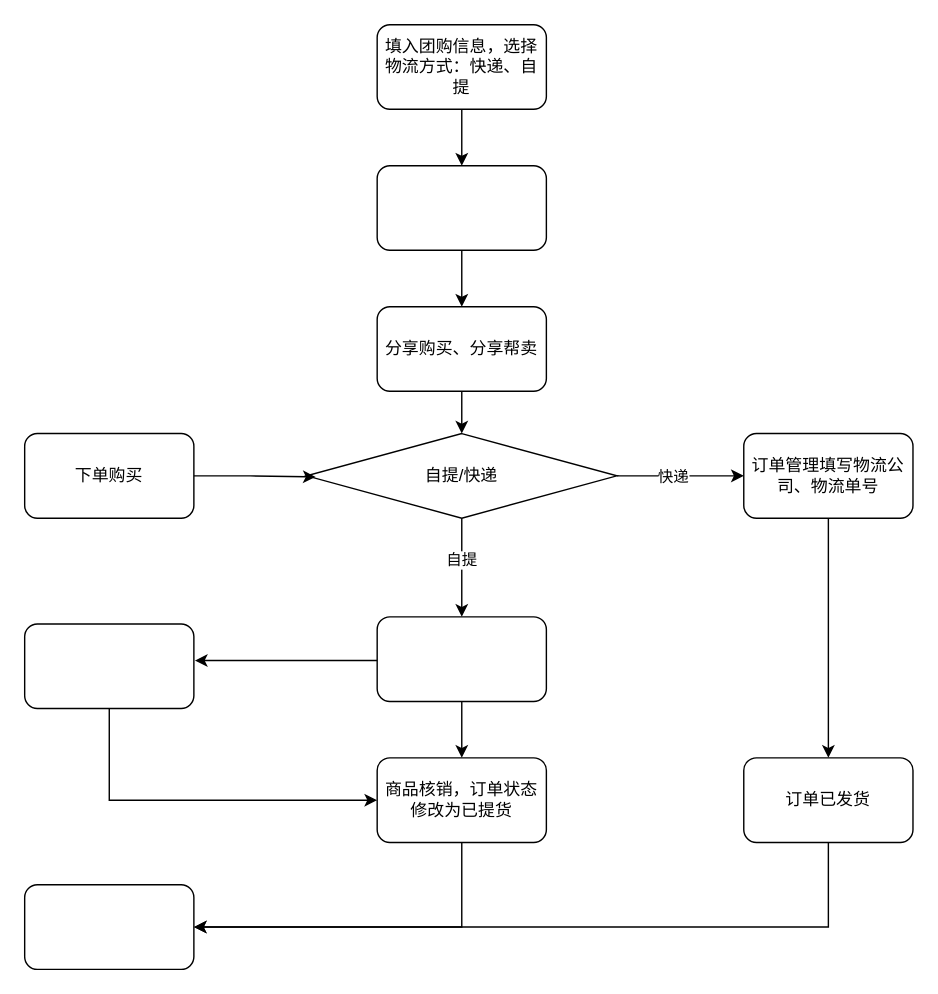
This 938x994 diagram has some shape labels left out. The centre of each missing label's shape, as x and y in pixels:
"去自提，获取核销码" belongs at point 108,666.
"发布团购" belongs at point 461,207.
"订单发货，生成核销码" belongs at point 461,658.
"订单已收货" belongs at point 108,926.
